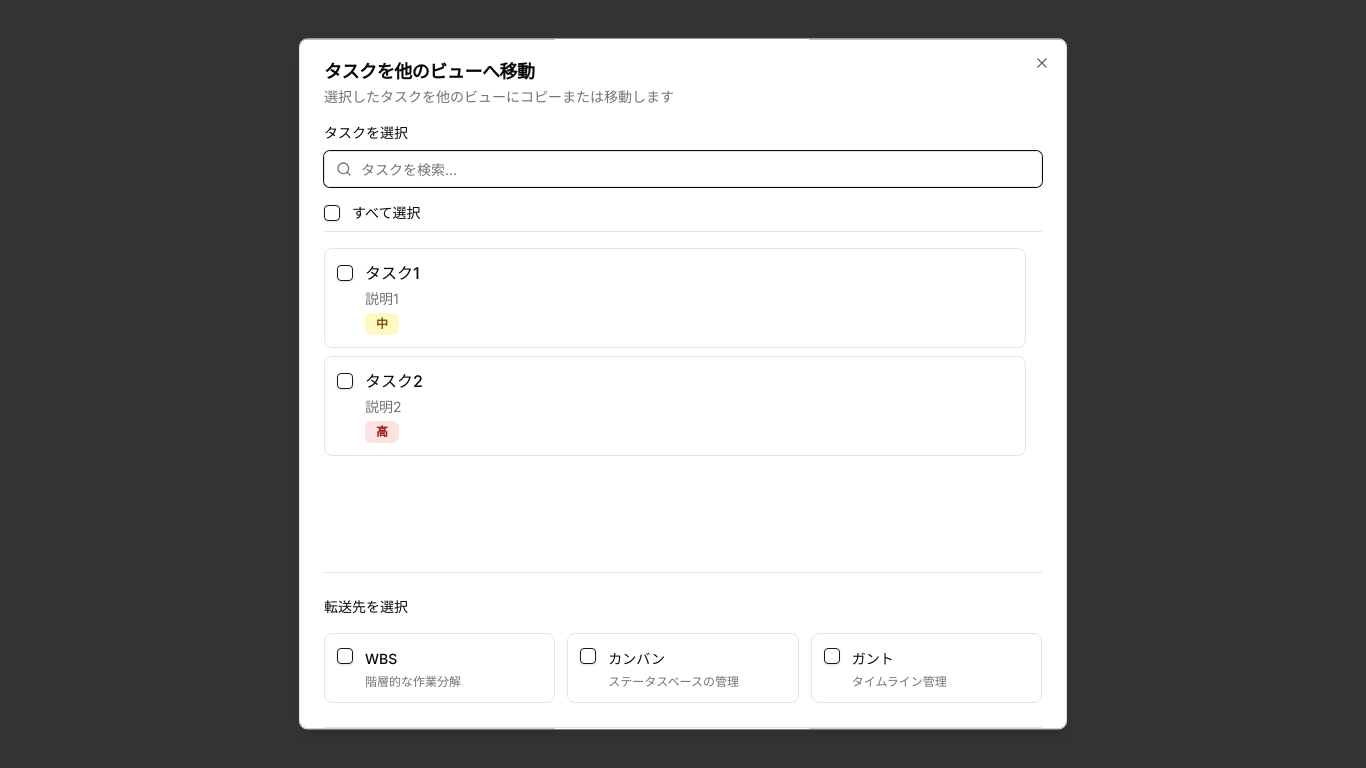
Test: TaskTransferDialog › タスクを選択できる
The width and height of the screenshot is (1366, 768).
What coordinates should you click on to do the following:
click the checkbox named "タスク1を選択"
I would click on:
 (345, 273)
Its box is x1=337 y1=265 x2=353 y2=281.
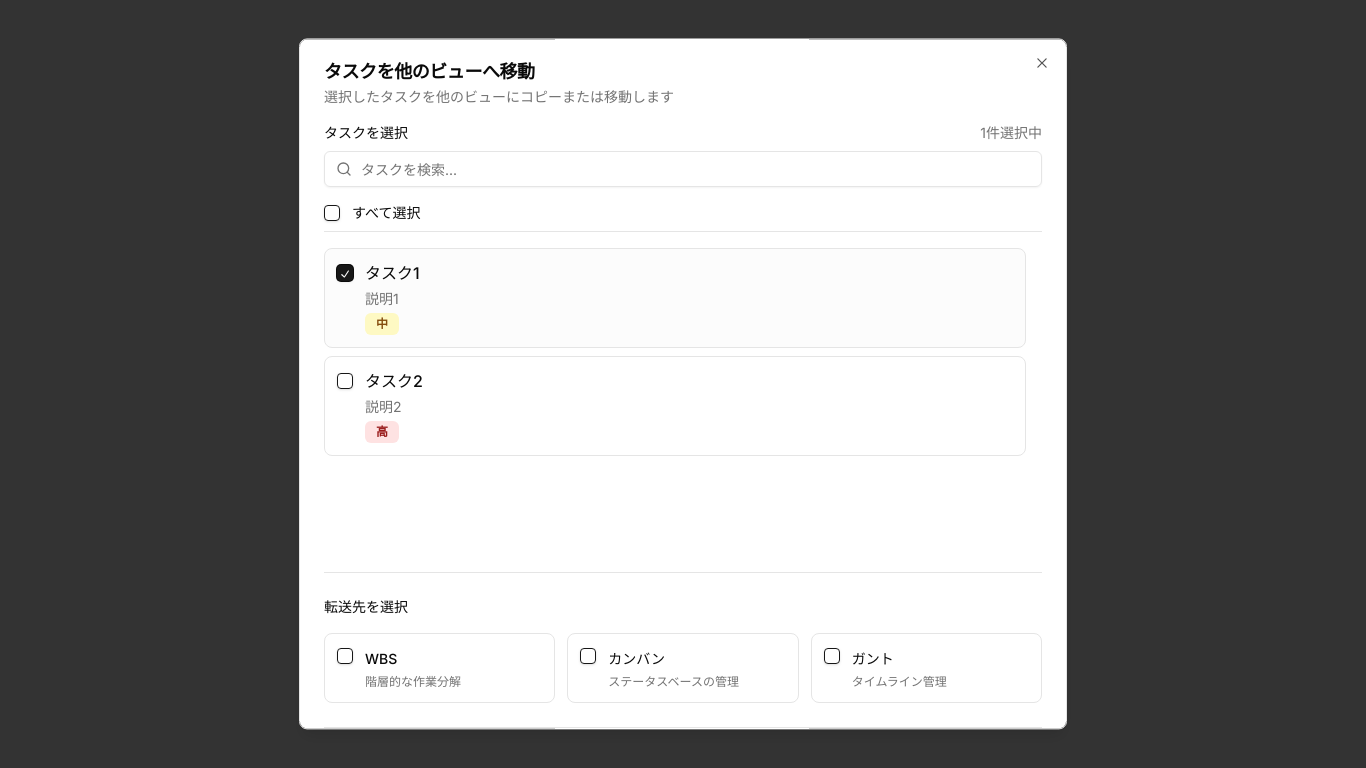
Check: the text "1件選択中" is shown, box x1=980 y1=123 x2=1042 y2=143
